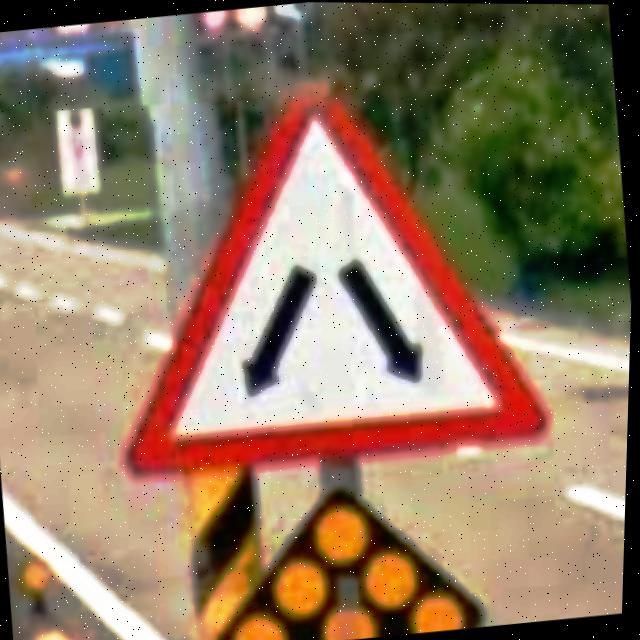diverge: (85, 59, 565, 491)
